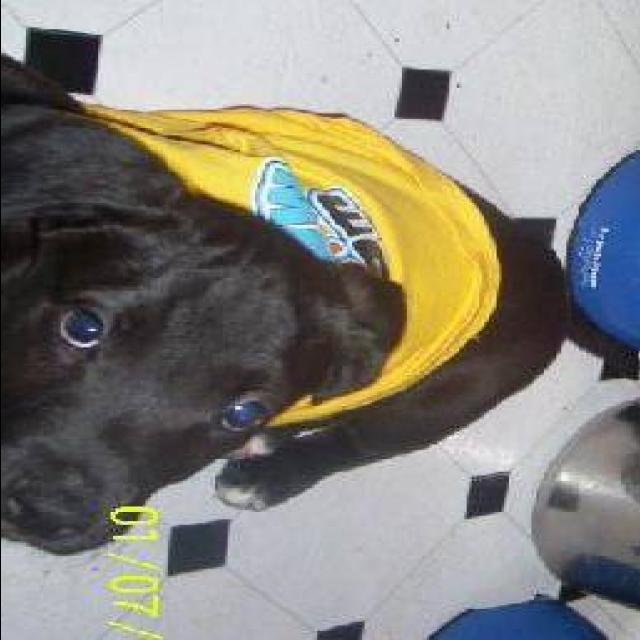dog: (0, 50, 590, 586)
